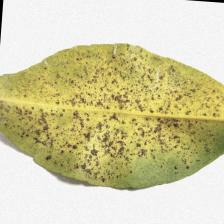canker: (28, 71, 191, 156)
